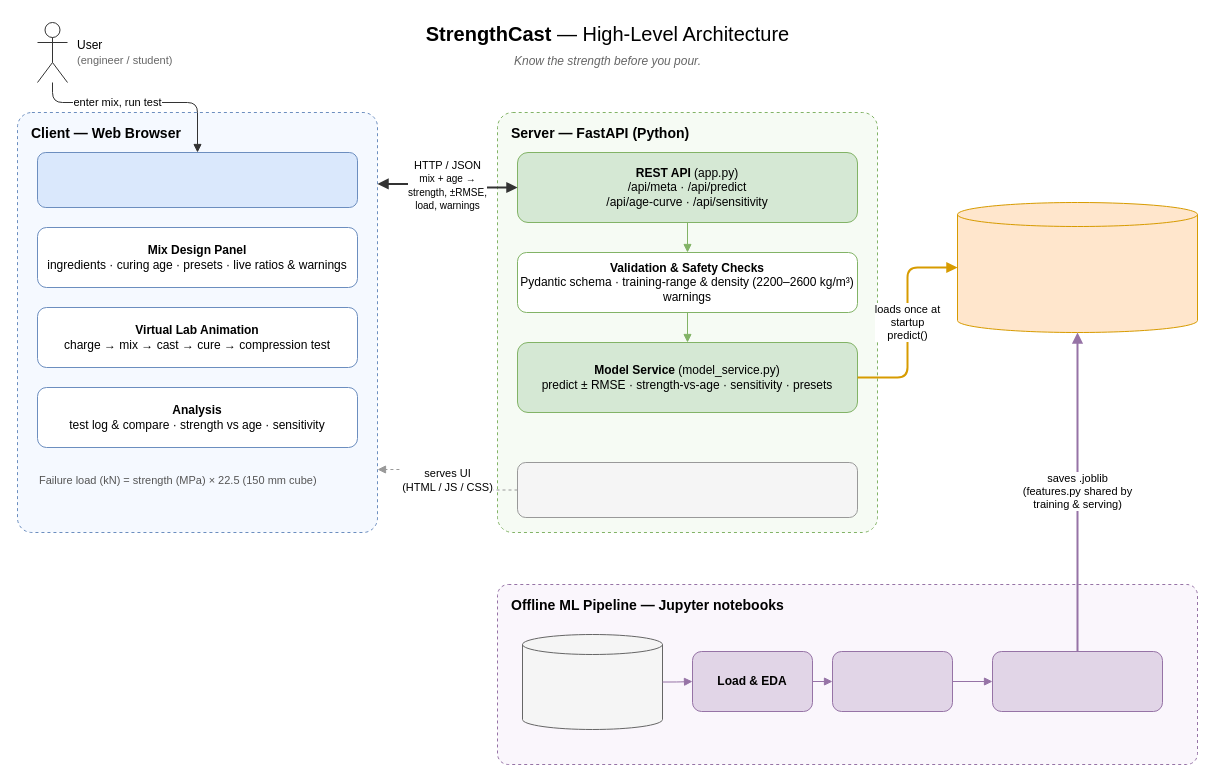
Image size: 1215x782. Some labels were removed from this diagram. The shapes that lost their labels are listed below. From the top down, each one's centre as x and y in pixels, then its label:
point (197, 180): StrengthCast UI React 18 + Vite (single-page app)
point (1077, 267): Trained Model Model → LightGBM (test R² 0.945 · RMSE 3.68 MPa)
point (687, 490): Static File Server serves the built UI (frontend/dist)
point (592, 682): UCI Concrete Dataset 1030 mixes · 8 inputs
point (892, 681): Outliers & Split
point (1077, 681): Train · Tune · Evaluate
